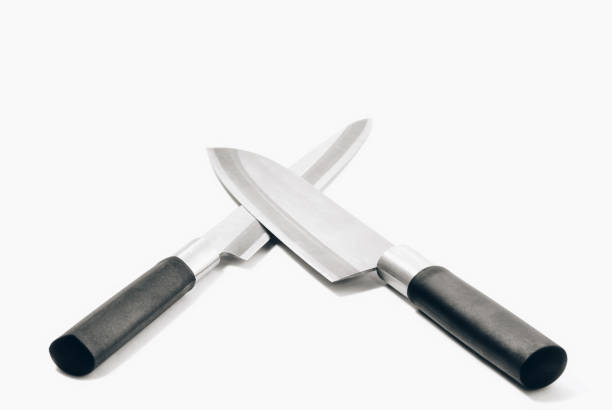knife: (202, 144, 569, 396), (47, 115, 375, 380)
